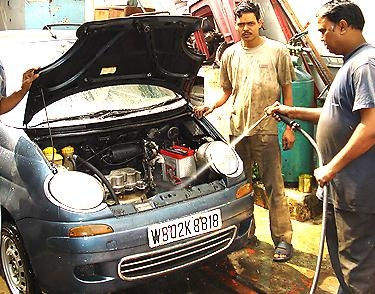number_plate: (144, 209, 232, 248)
